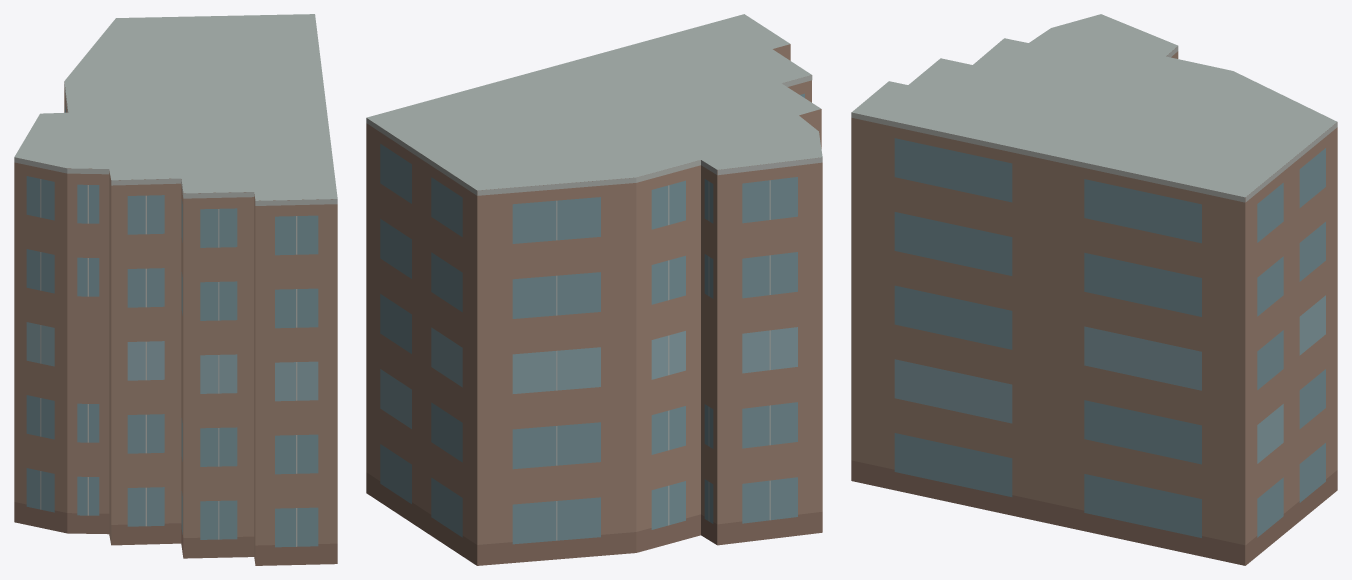
File: survey-upis-33011068.glb
The picture shows the model from 3 angles, left to right: view 1: azimuth 30°, elevation 25°; view 2: azimuth 150°, elevation 25°; view 3: azimuth 270°, elevation 25°; orthographic projection. The views are drawn at different scales.
Parts seen in each view (by area): view 1: survey-upis-33011068.tmp; view 2: survey-upis-33011068.tmp; view 3: survey-upis-33011068.tmp.
Part boxes in pixels (left/top/right/bottom): survey-upis-33011068.tmp: left=14, top=14, right=337, bottom=565; survey-upis-33011068.tmp: left=366, top=14, right=822, bottom=565; survey-upis-33011068.tmp: left=851, top=14, right=1337, bottom=565.
Bounding box in the file's own units: 18.26 × 17.1 × 20.46.
